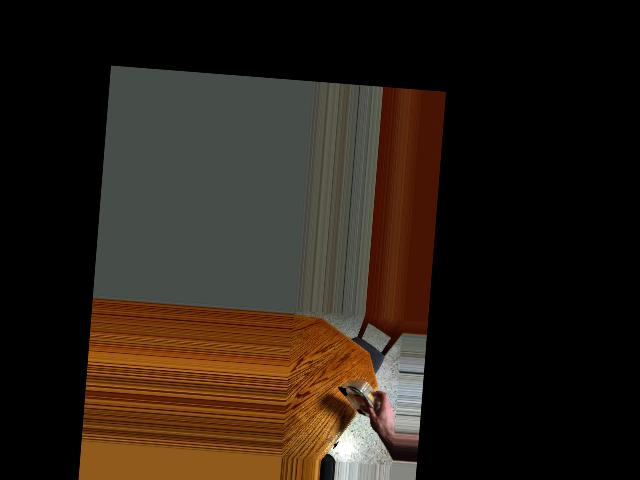cheese: (337, 369, 384, 432)
